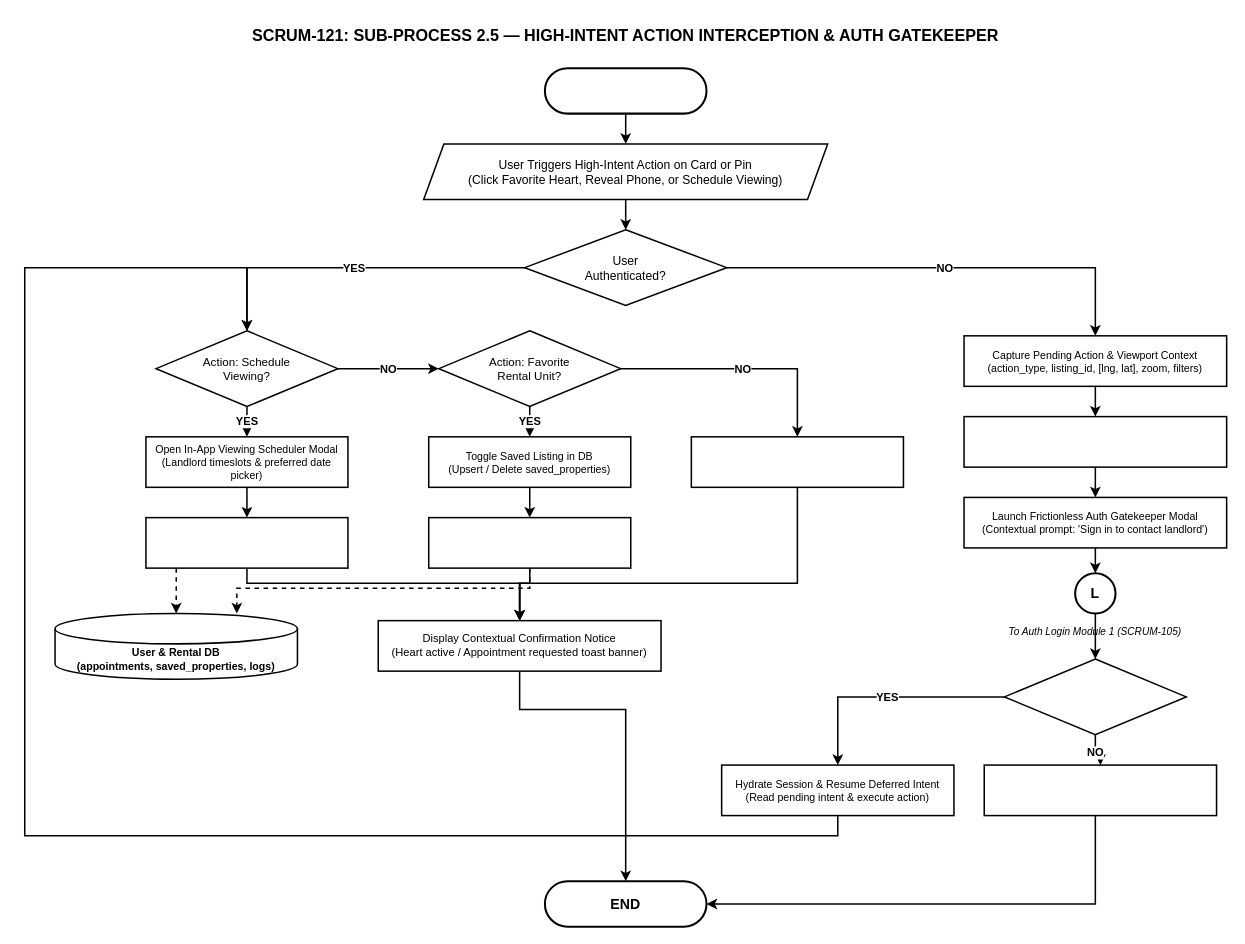
Some shapes in this 1245 by 944 pixel diagram are drawn without their labels. The shapes that lost their labels are listed below. From the top down, each one's box as (x1, y1, x2, y2) in pixels, then its label:
(543, 67, 707, 114): START
(963, 415, 1227, 467): Persist Intent to SessionStorage (Key: abangcebu_pending_intent)
(690, 436, 904, 488): Log Contact Impression & Reveal (Unmask verified phone 09XX-XXX-XXXX)
(145, 516, 348, 568): Dispatch Appointment to Database (Insert pending viewing_appointments)
(428, 516, 631, 568): Update Heart Icon State (Increment saved counter badge)
(1003, 658, 1187, 735): User Successfully Authenticates?
(983, 764, 1217, 816): Dismiss Modal & Retain Guest Map View (Clear sessionStorage pending intent)
